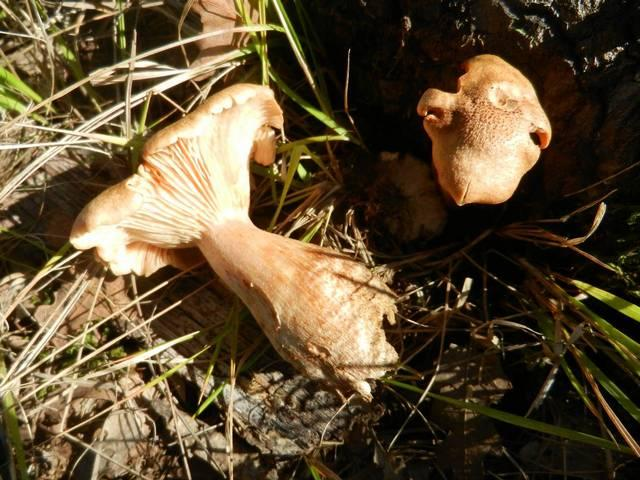Edible Mushroom: (68, 80, 401, 404), (415, 51, 552, 207)
